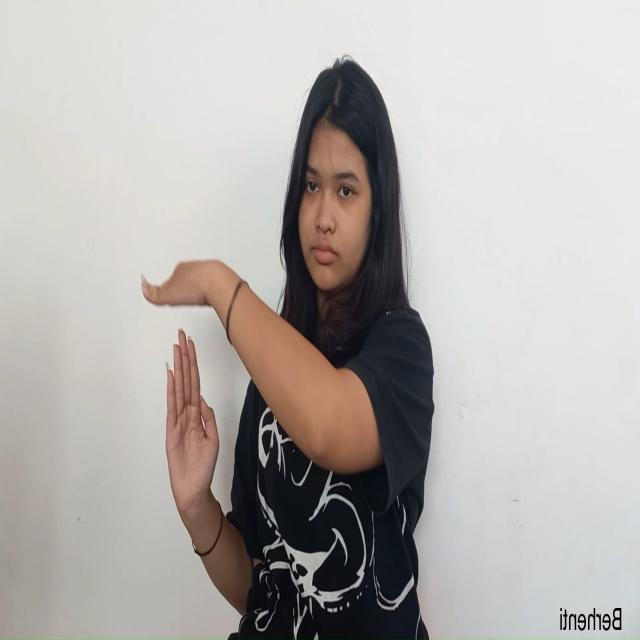Berhenti -BISINDO-: (137, 253, 236, 524)
